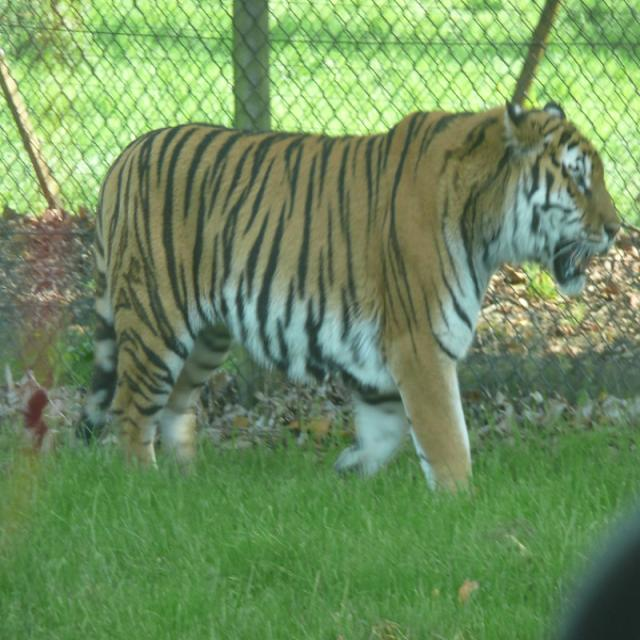Tiger: (95, 101, 620, 491)
